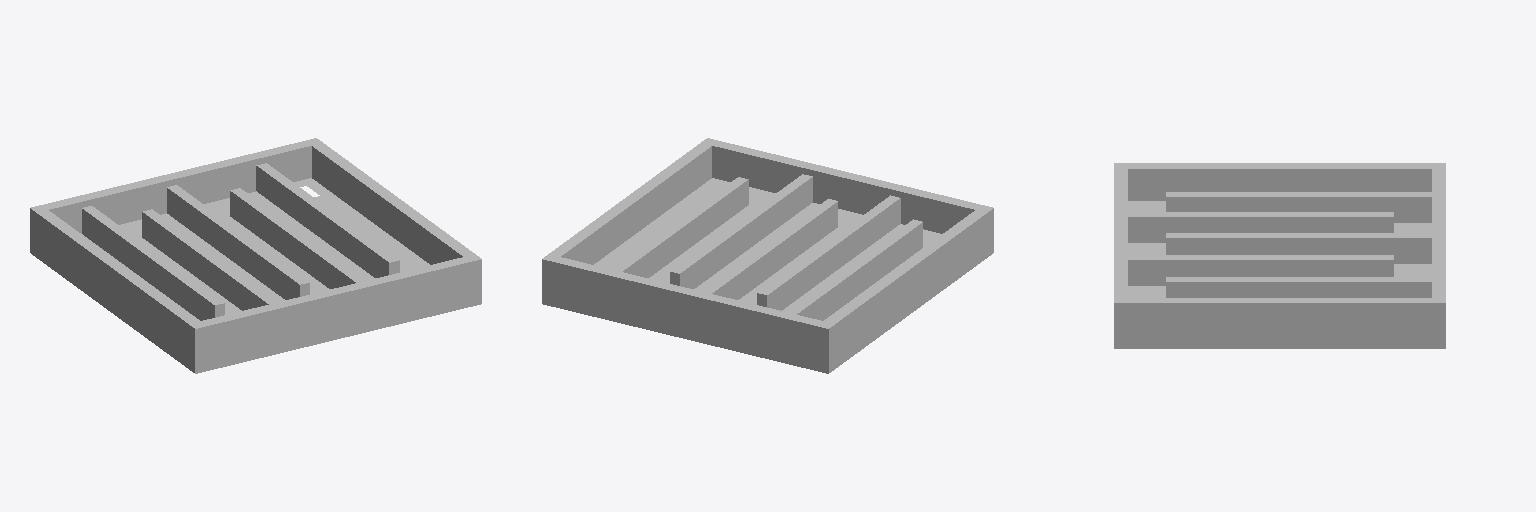
The model's file is testBlenderBoard.obj.
The picture shows the model from 3 angles: view 1: azimuth 30°, elevation 25°; view 2: azimuth 150°, elevation 25°; view 3: azimuth 270°, elevation 25°; orthographic projection.
Parts seen in each view (by area): view 1: Cube, Cube.005, Cube.003, Cube.001, Cube.004, Cube.002; view 2: Cube, Cube.004, Cube.002, Cube.005, Cube.001, Cube.003; view 3: Cube, Cube.002, Cube.003, Cube.004, Cube.001, Cube.005.
Boxes of the visible parts, x1=… form: Cube: x1=30, y1=138, x2=481, y2=373; Cube.005: x1=256, y1=163, x2=399, y2=277; Cube.003: x1=167, y1=185, x2=309, y2=299; Cube.001: x1=82, y1=206, x2=224, y2=320; Cube.004: x1=142, y1=209, x2=277, y2=310; Cube.002: x1=230, y1=188, x2=366, y2=288; Cube: x1=542, y1=138, x2=993, y2=373; Cube.004: x1=757, y1=195, x2=900, y2=310; Cube.002: x1=670, y1=174, x2=812, y2=288; Cube.005: x1=612, y1=177, x2=748, y2=277; Cube.001: x1=787, y1=219, x2=922, y2=320; Cube.003: x1=702, y1=199, x2=837, y2=299; Cube: x1=1114, y1=163, x2=1445, y2=348; Cube.002: x1=1128, y1=255, x2=1393, y2=285; Cube.003: x1=1166, y1=233, x2=1431, y2=263; Cube.004: x1=1128, y1=212, x2=1393, y2=242; Cube.001: x1=1166, y1=192, x2=1431, y2=222; Cube.005: x1=1166, y1=277, x2=1431, y2=297.
Size of the model in its own units: 4 by 0.6 by 4.